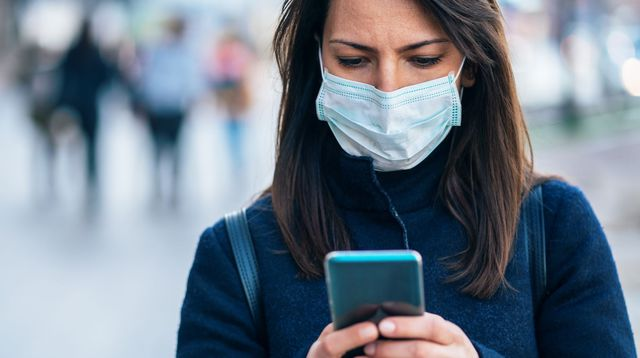with_mask: (314, 19, 463, 168)
